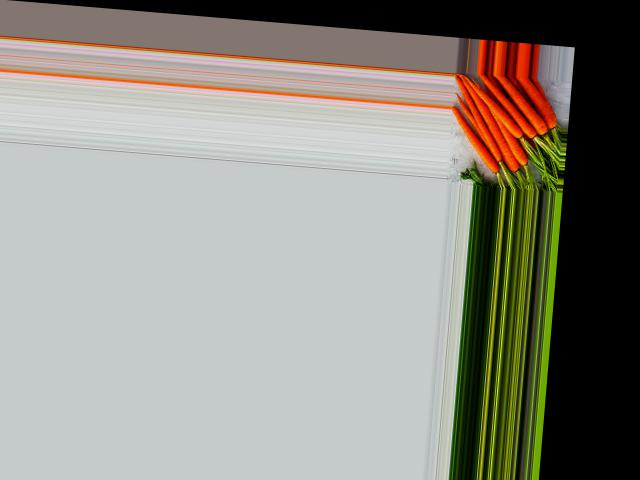carrot: (519, 77, 560, 130)
